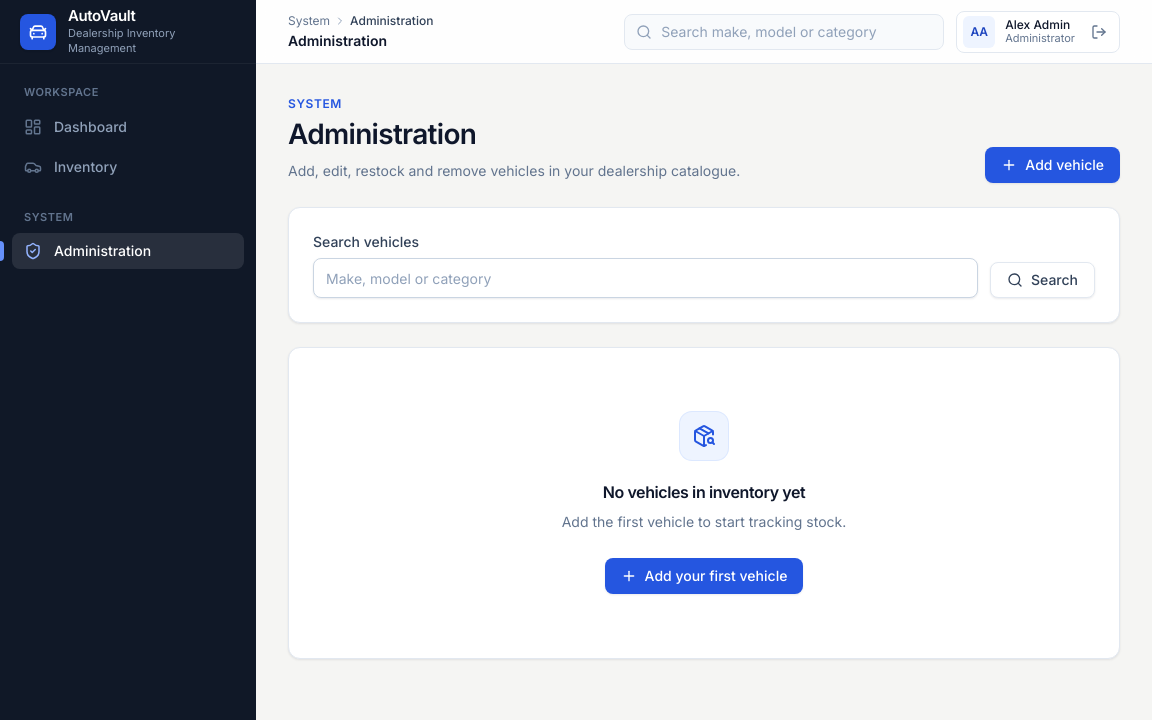
Test: administration › validates the form before sending anything
The width and height of the screenshot is (1152, 720).
Expected: the heading "No vehicles in inventory yet" is shown, [603,480,805,504]
Click the button "Add vehicle": (1053, 165) [985,147,1120,183]
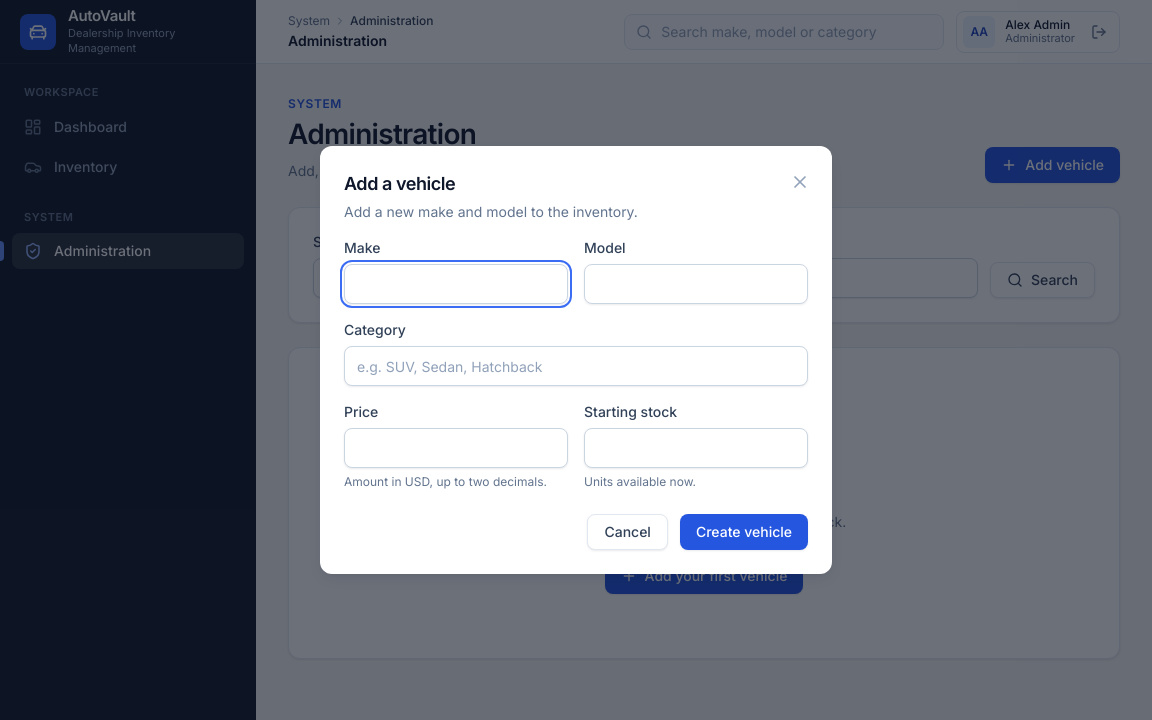
Click the button "Create vehicle": (744, 532) [680,514,808,550]
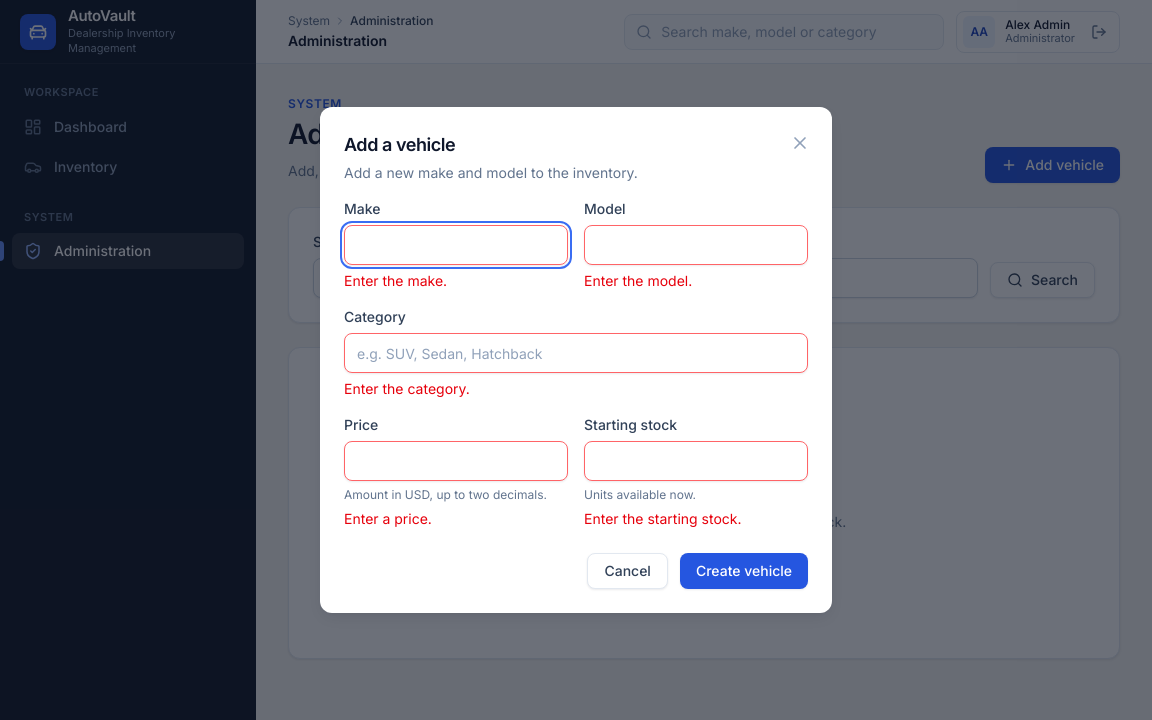
Result: the text "Enter the make." is shown at [344,272,447,289]
Result: the text "Enter a price." is shown at [344,510,432,527]
Result: the text "Enter the starting stock." is shown at [584,510,742,527]
